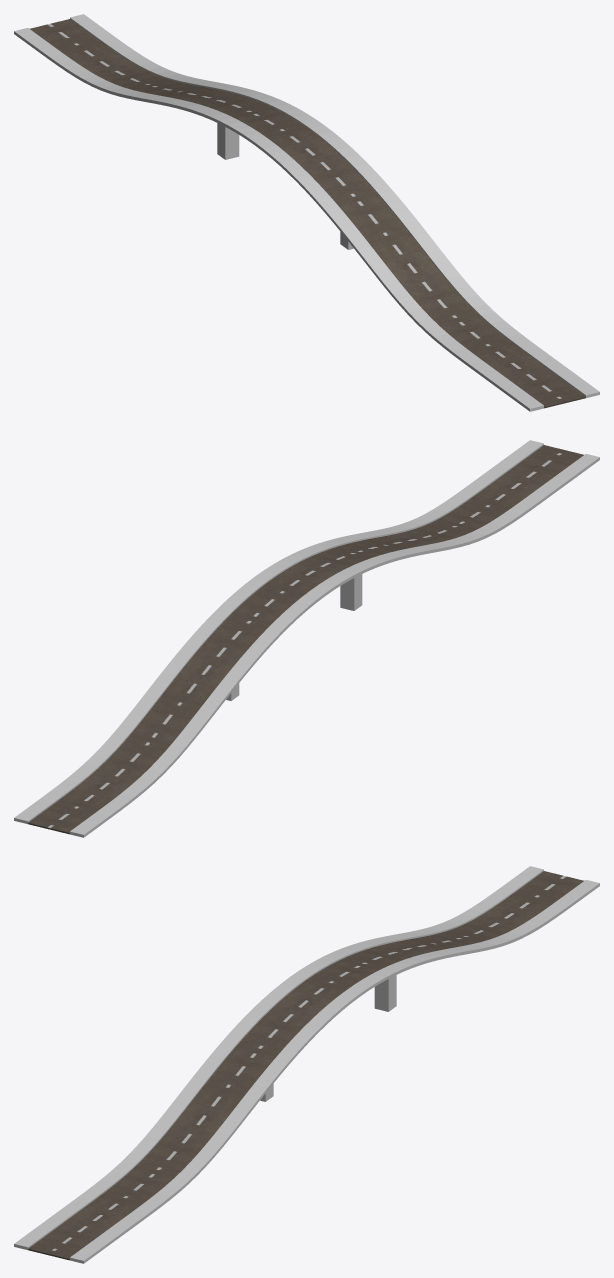
The model's file is Bridge.obj.
3 views of the same model, one above another, from view 1: azimuth 30°, elevation 25°; view 2: azimuth 150°, elevation 25°; view 3: azimuth 330°, elevation 25° (orthographic).
Parts seen in each view (by area): view 1: bridge; view 2: bridge; view 3: bridge.
Part boxes in pixels (box(x1,y1,x2,y2)): bridge: box(14, 14, 599, 411); bridge: box(14, 440, 599, 837); bridge: box(14, 866, 599, 1263).
Size of the model in its own units: 10 by 9.29 by 128.
